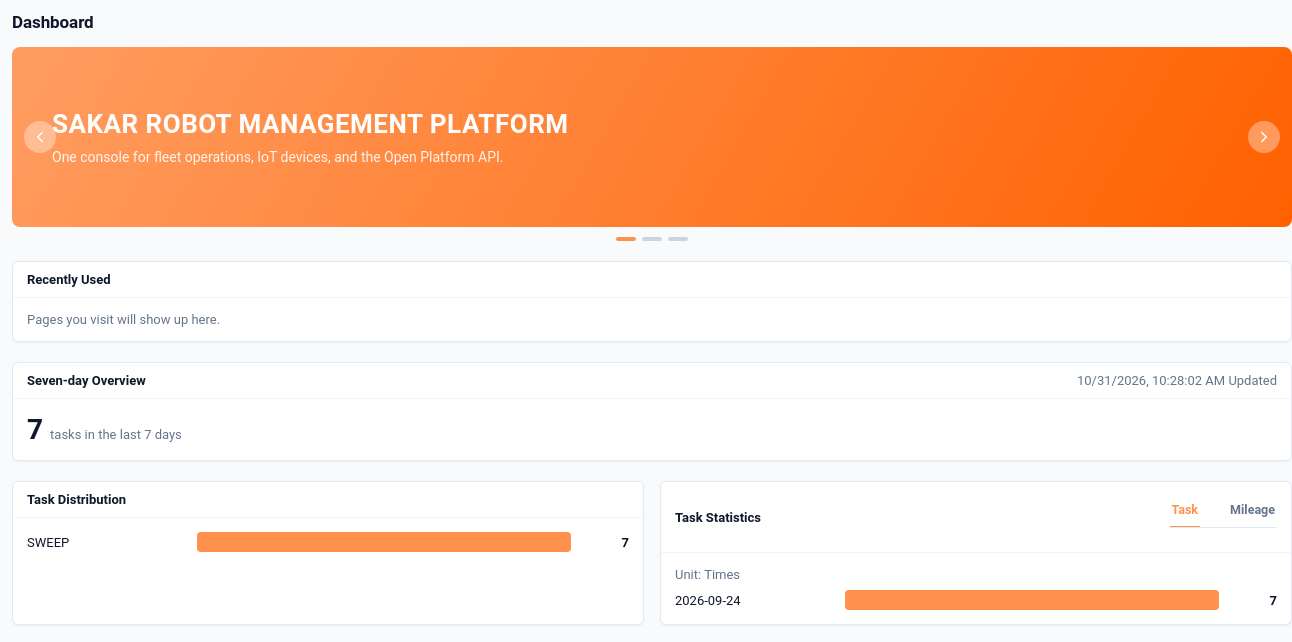
Scenario: DashboardPage › renders the hero carousel with its real slides, and clicking one navigates to its real page
The image size is (1292, 642).
Expected: the heading "SAKAR ROBOT MANAGEMENT PLATFORM" is shown, [52,109,568,139]
Expected: the element named "Dashboard highlights" is shown, [12,47,1291,241]
Click the button named "Next slide". click: (1264, 137)
box: [1248,121,1280,153]
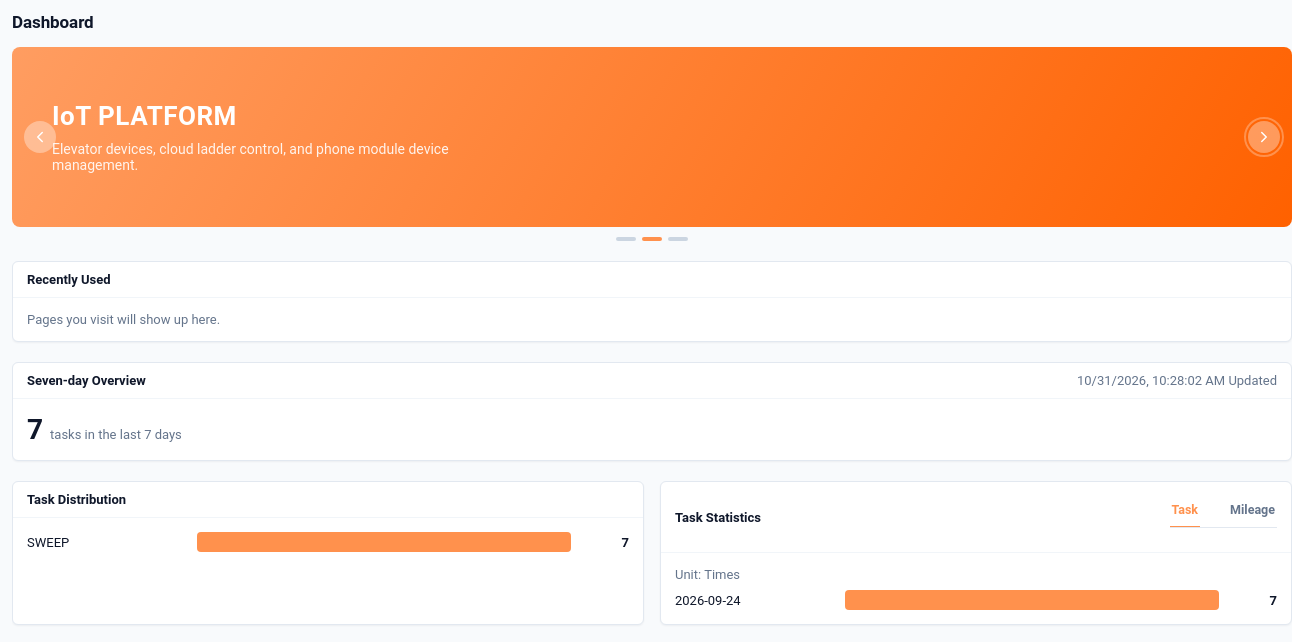
Expected: the heading "IoT PLATFORM" is shown, [52,101,237,131]
